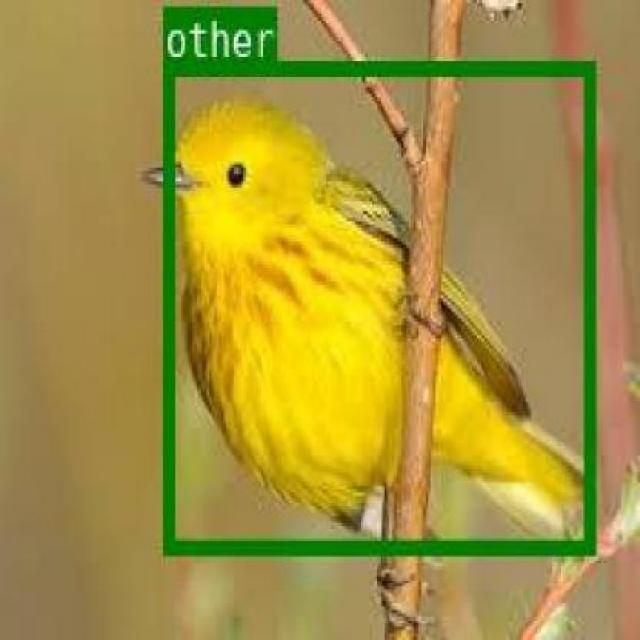Smoke: (162, 58, 592, 550)
